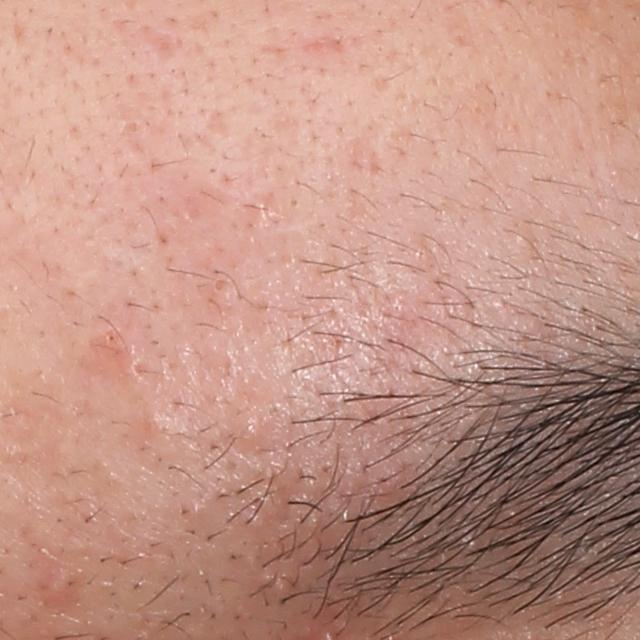atrophic_scar: (132, 21, 192, 67)
comedo: (234, 419, 264, 447), (210, 274, 229, 297), (102, 330, 121, 346)
